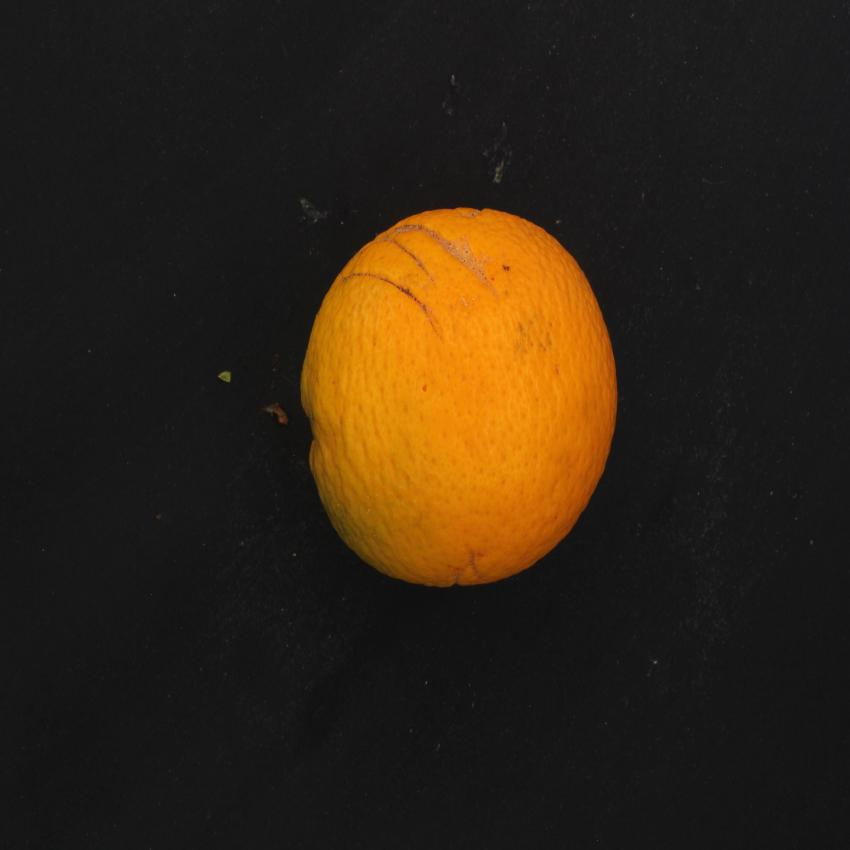Buen estado: (291, 198, 628, 606)
